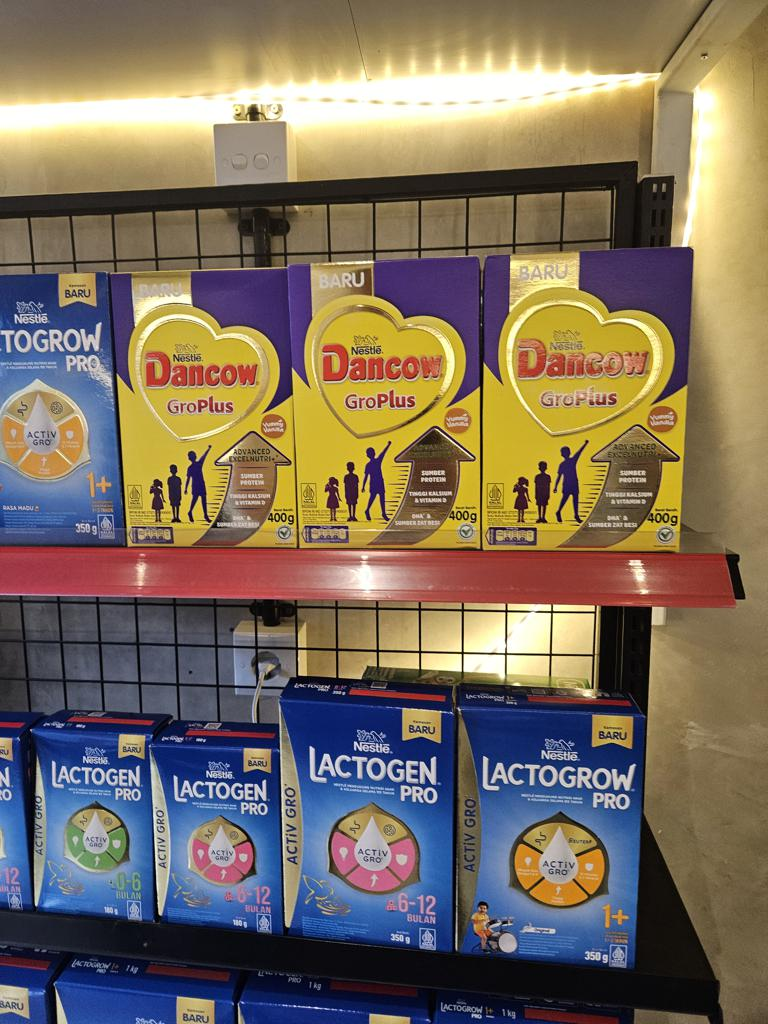LACTOGEN PRO 0-6 mo 40x180g ID: (24, 726, 159, 918)
LACTOGEN PRO 6-12 mo 24x350g ID: (279, 697, 452, 948)
LACTOGEN PRO 6-12 mo 40x180g ID: (150, 740, 285, 926)
LACTOGROW PRO 1+ Honey 24x350g ID: (0, 265, 128, 547)
